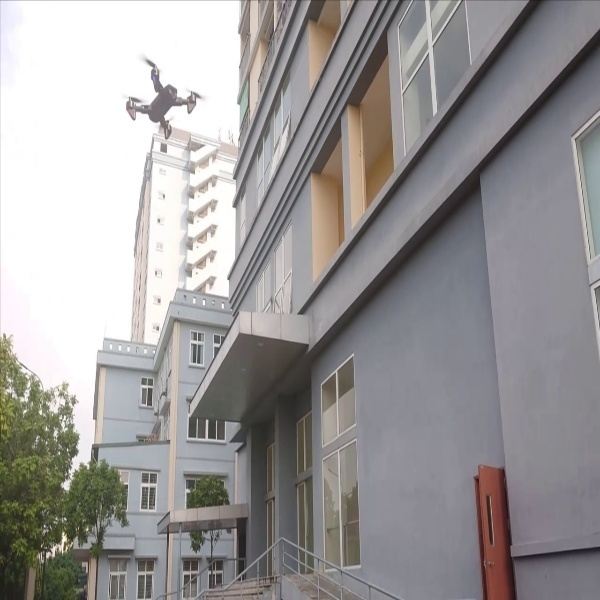drone: (117, 51, 207, 148)
